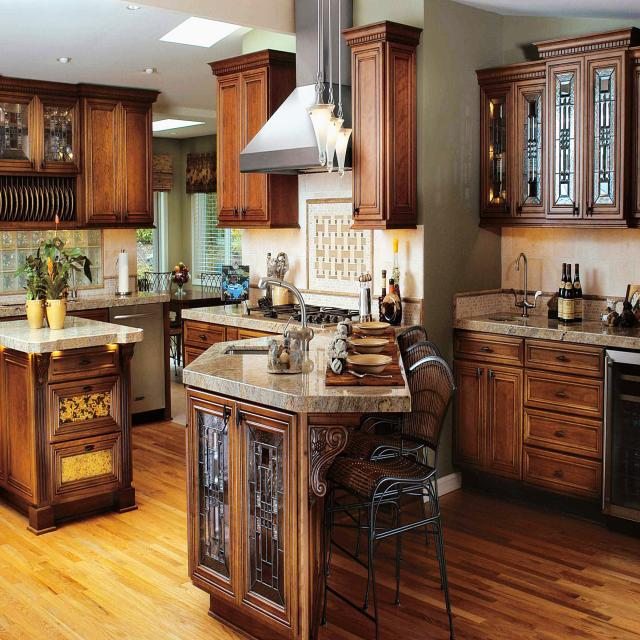Appliance_Dishwasher: (110, 303, 166, 415)
Appliance_Sink: (259, 278, 314, 373), (488, 253, 535, 325), (225, 347, 269, 355)
Appliance_Stove: (305, 306, 358, 326), (249, 306, 301, 321)
Cabinet_Glass: (477, 46, 640, 228), (189, 391, 297, 611), (0, 75, 81, 178)
Cabinet_Shaker: (451, 330, 604, 501), (45, 343, 137, 522), (343, 22, 421, 231), (73, 86, 159, 228), (212, 54, 270, 229), (183, 320, 281, 365)
Countertop_Marble: (182, 336, 413, 412), (0, 316, 145, 354), (458, 320, 640, 350), (182, 306, 284, 333), (67, 295, 170, 310), (0, 291, 26, 318)
